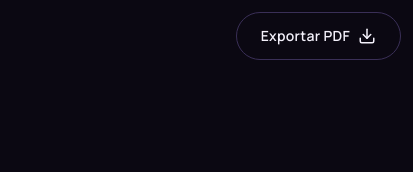
Scenario: ExportPdfButton › shows an error alert when the export fails
What coordinates should you click on to do the following:
click the button "Exportar PDF"
I would click on:
 (318, 36)
Its box is [236,12,401,60].
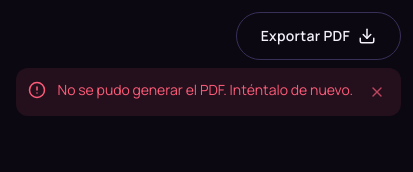
Check: the message shows "No se pudo generar el PDF.", box [58,80,353,99]
